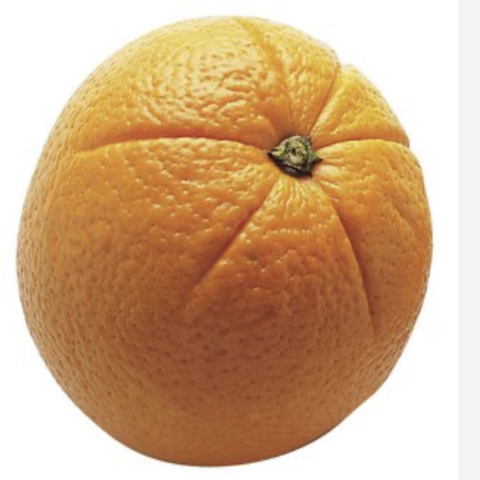orange: (2, 13, 470, 473)
